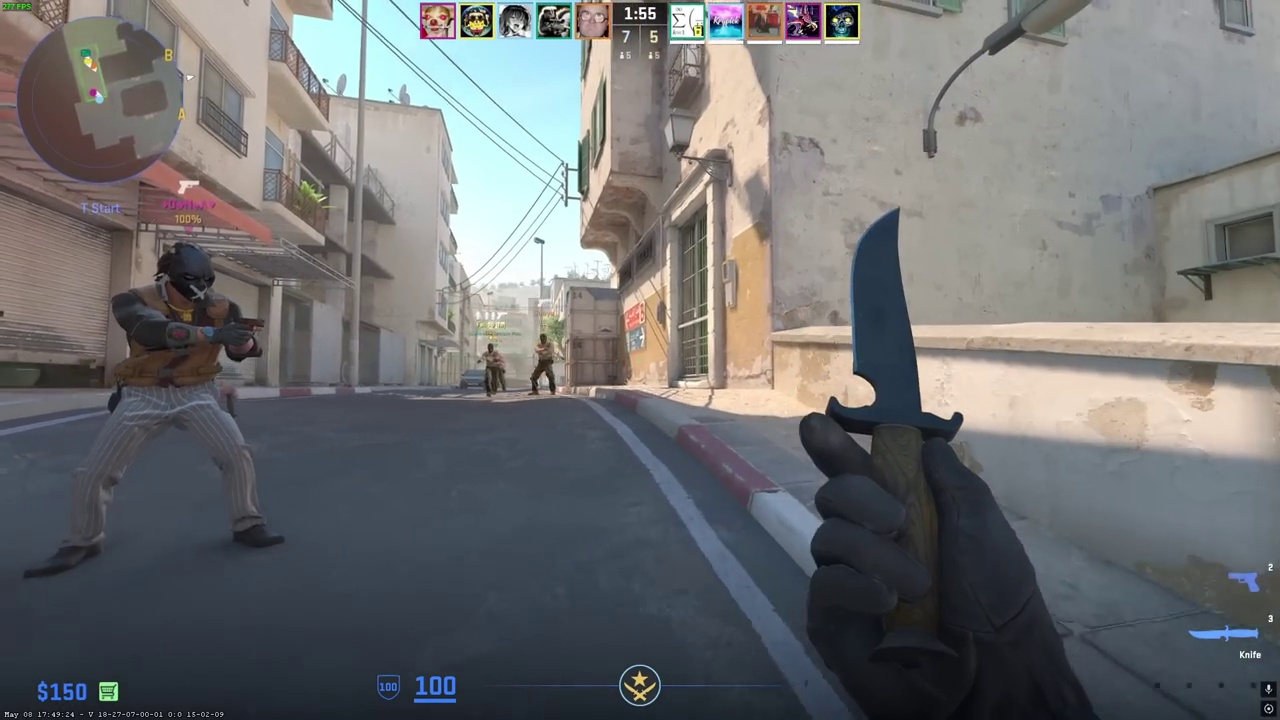Terrorist: (71, 242, 274, 564), (531, 334, 557, 395), (483, 343, 505, 396)
